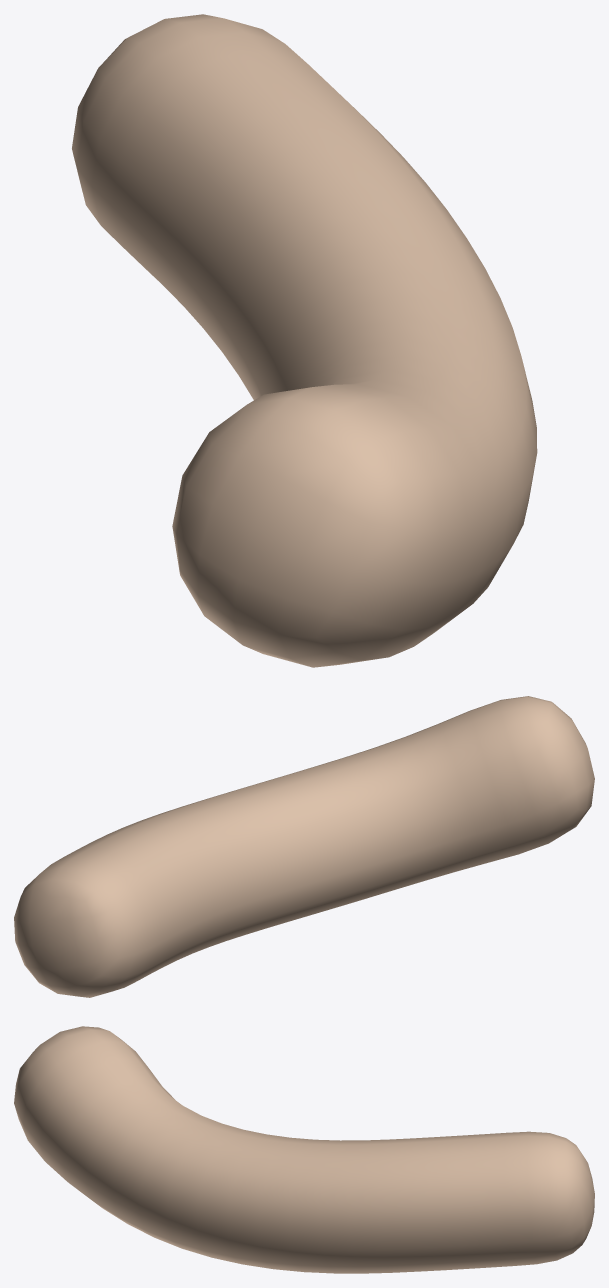
3 views of the same model, one above another, from view 1: azimuth 30°, elevation 25°; view 2: azimuth 150°, elevation 25°; view 3: azimuth 270°, elevation 25° (orthographic). The views are drawn at different scales.
Parts seen in each view (by area): view 1: 左侧结节间腱鞘; view 2: 左侧结节间腱鞘; view 3: 左侧结节间腱鞘.
Part boxes in pixels (<box>): 左侧结节间腱鞘: <box>72,14,537,667</box>; 左侧结节间腱鞘: <box>14,696,594,997</box>; 左侧结节间腱鞘: <box>14,1026,594,1273</box>.
Size of the model in its own units: 0.0271 by 0.0146 by 0.0476.
